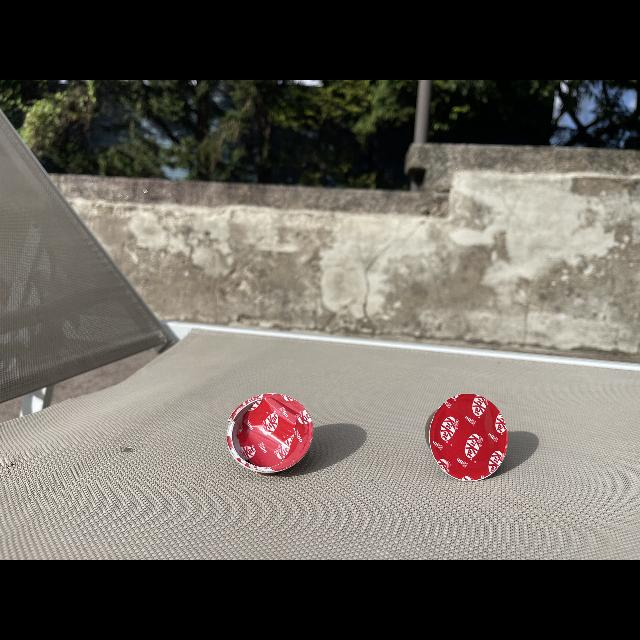damaged_capsule: (222, 385, 321, 483)
intact_capsule: (422, 389, 520, 486)
